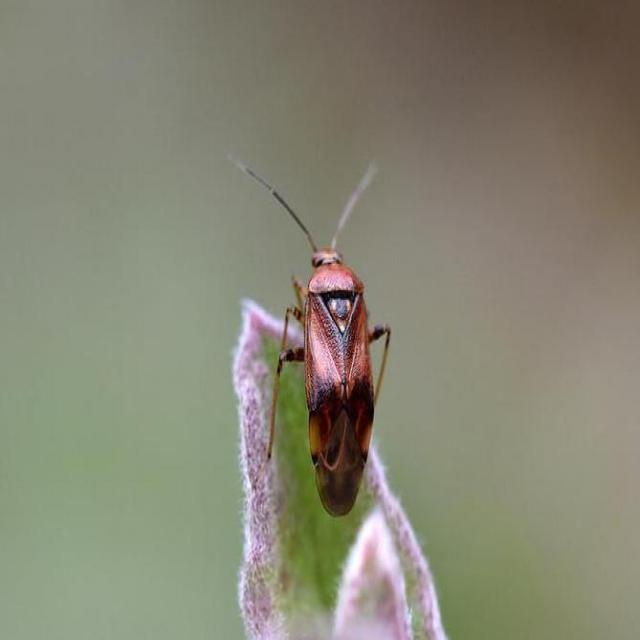Miridae-Adult-: (220, 145, 402, 523)
